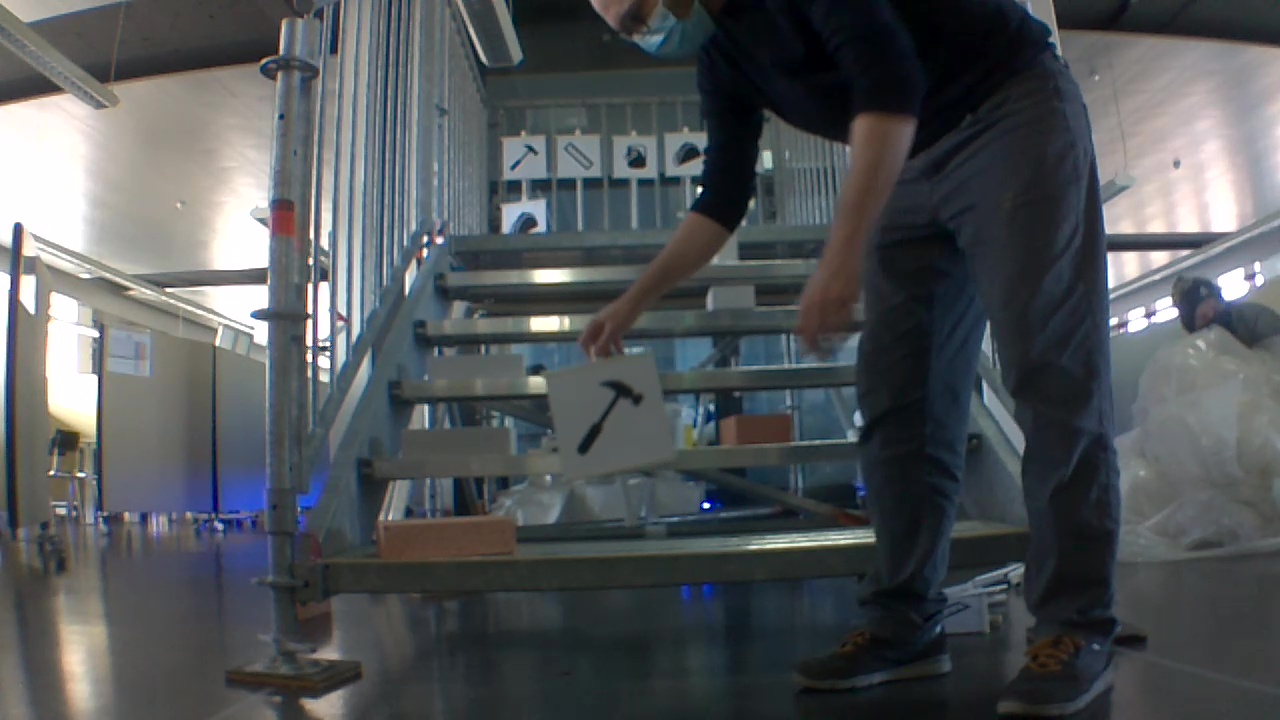brick: (377, 515, 513, 557), (402, 429, 513, 460), (428, 355, 525, 381), (721, 413, 792, 445), (705, 286, 754, 308)
bucket: (617, 143, 651, 172)
hammer: (561, 377, 650, 460), (501, 140, 540, 173)
ruler: (557, 139, 599, 177)
taco: (505, 205, 541, 233), (669, 138, 702, 167)
